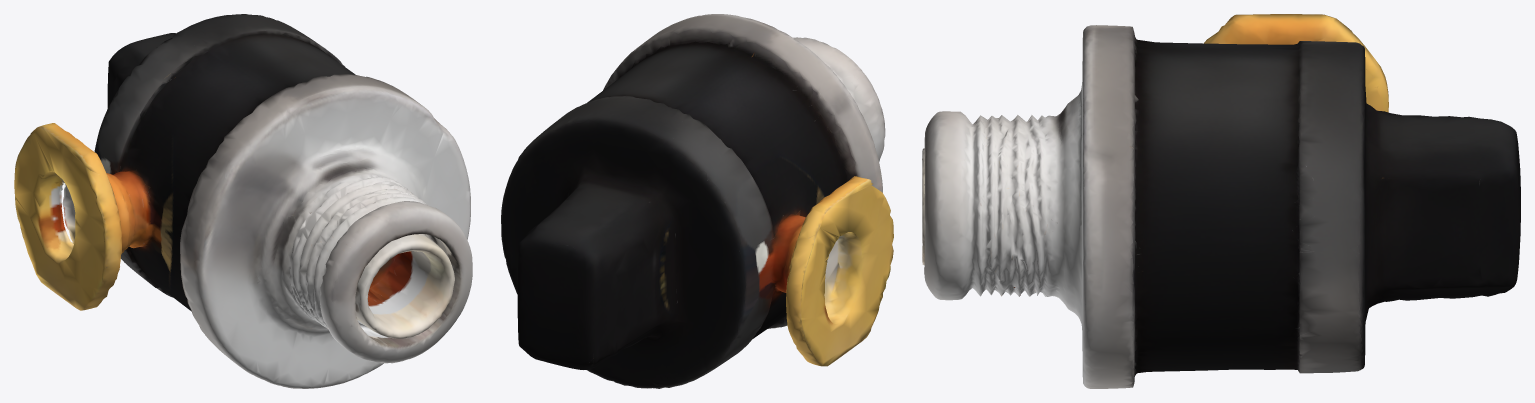
File: key_switch.glb
3 views of the same model, side by side, from view 1: azimuth 30°, elevation 25°; view 2: azimuth 150°, elevation 25°; view 3: azimuth 270°, elevation 25° (orthographic). The views are drawn at different scales.
Visible parts, largest first — view 1: model; view 2: model; view 3: model.
Boxes of the visible parts, x1=… form: model: x1=14, y1=14, x2=472, y2=388; model: x1=501, y1=14, x2=893, y2=388; model: x1=922, y1=14, x2=1520, y2=388.
Bounding box in the file's own units: 1.34 × 1.16 × 1.9.
Materials: 1 (1 with a texture image).
